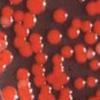red: (0, 46, 14, 78), (16, 79, 35, 100), (46, 27, 65, 46), (23, 0, 47, 15), (36, 84, 58, 100), (82, 1, 100, 19), (17, 41, 34, 58), (51, 7, 68, 24), (22, 12, 38, 30), (0, 85, 19, 100), (82, 30, 99, 46), (78, 18, 94, 34), (32, 74, 49, 89), (55, 70, 72, 85), (30, 63, 46, 78), (59, 43, 74, 59), (16, 66, 30, 83), (32, 52, 50, 65), (72, 43, 90, 56), (66, 26, 81, 41), (85, 73, 99, 89), (72, 52, 88, 66), (11, 36, 28, 49), (29, 42, 47, 54), (0, 15, 14, 30), (49, 63, 68, 74), (29, 31, 45, 44), (85, 45, 97, 62), (51, 52, 65, 66), (12, 9, 25, 24), (73, 76, 86, 91), (46, 71, 58, 87), (91, 18, 100, 37), (57, 86, 74, 96), (16, 26, 30, 38), (54, 92, 75, 100), (1, 5, 14, 17), (11, 22, 24, 33), (52, 81, 65, 92), (70, 17, 83, 28), (89, 58, 100, 71), (0, 39, 10, 53), (7, 0, 24, 7), (92, 0, 100, 14), (0, 30, 9, 41), (96, 40, 100, 58), (93, 87, 100, 97), (86, 95, 100, 100), (77, 0, 86, 4)
